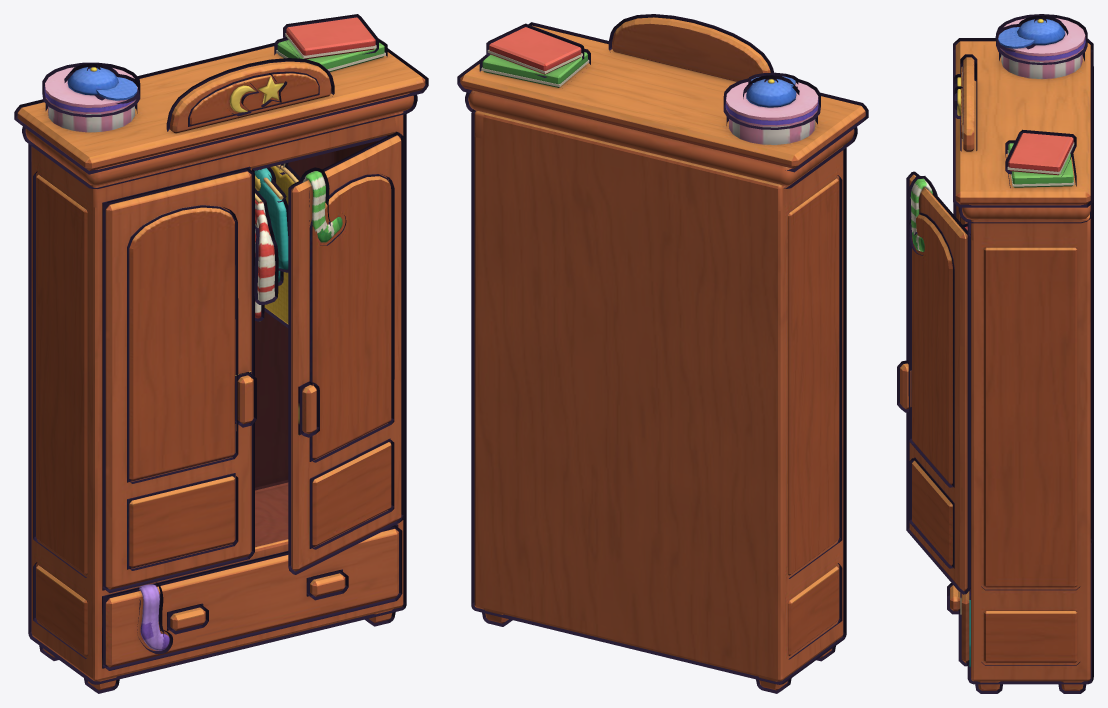
The model's file is Wardrobe.glb.
The picture shows the model from 3 angles, left to right: view 1: azimuth 30°, elevation 25°; view 2: azimuth 150°, elevation 25°; view 3: azimuth 270°, elevation 25°; orthographic projection. The views are drawn at different scales.
Visible parts, largest first — view 1: Wardrobe, Wardrobe_Outline; view 2: Wardrobe, Wardrobe_Outline; view 3: Wardrobe, Wardrobe_Outline.
Part boxes in pixels (box(x1,y1,x2,y2)): Wardrobe: box(17, 17, 425, 690); Wardrobe_Outline: box(14, 14, 428, 693); Wardrobe: box(460, 17, 865, 690); Wardrobe_Outline: box(457, 14, 868, 693); Wardrobe: box(900, 18, 1090, 690); Wardrobe_Outline: box(897, 14, 1093, 693).
Bounding box in the file's own units: 18.28 × 30.31 × 9.7.
Materials: 2 (2 with a texture image).
